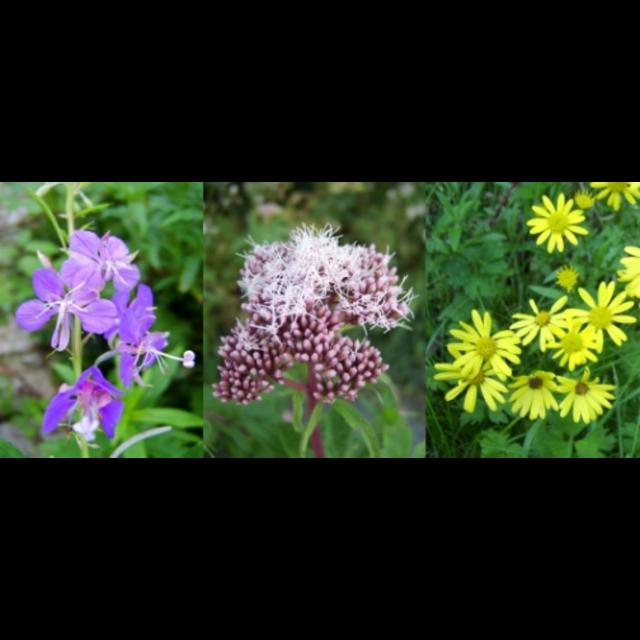Flower: (438, 182, 638, 430), (208, 218, 412, 416), (15, 230, 168, 438)
